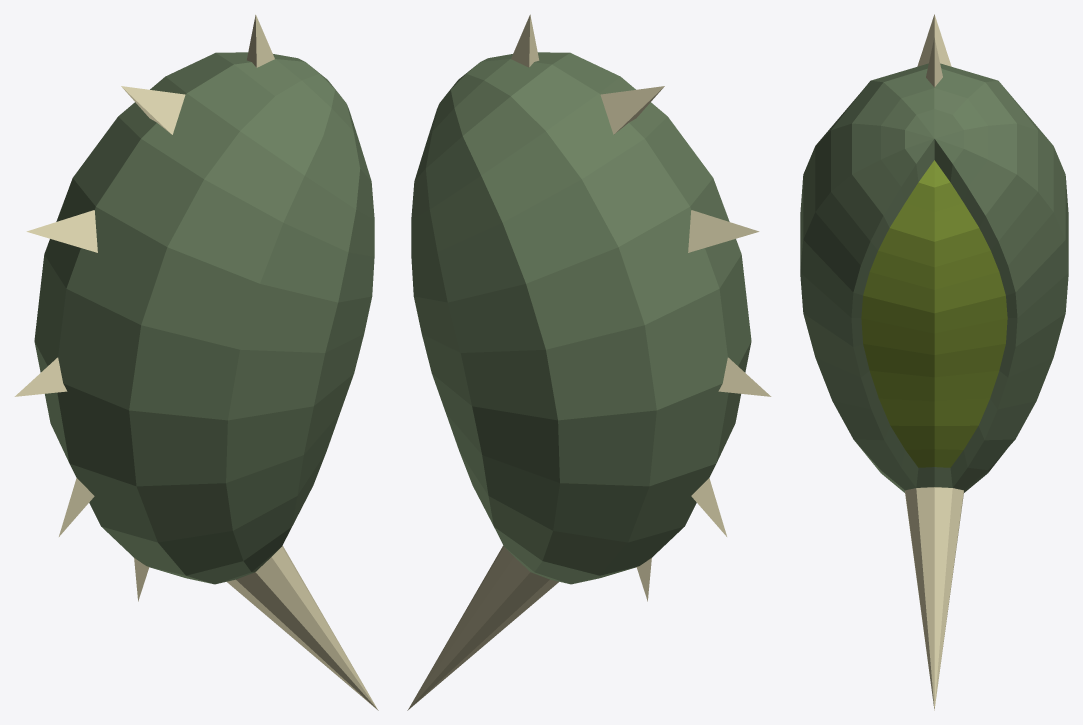
The model's file is ScreecherAbdomen.fbx.
The picture shows the model from 3 angles, left to right: view 1: azimuth 30°, elevation 25°; view 2: azimuth 150°, elevation 25°; view 3: azimuth 270°, elevation 25°; orthographic projection. The views are drawn at different scales.
Parts seen in each view (by area): view 1: Abdomen; view 2: Abdomen; view 3: Abdomen.
Part boxes in pixels (x1=…): Abdomen: x1=14, y1=14, x2=378, y2=710; Abdomen: x1=407, y1=14, x2=771, y2=710; Abdomen: x1=800, y1=14, x2=1068, y2=710.
Size of the model in its own units: 6.77 by 12.91 by 5.05.
